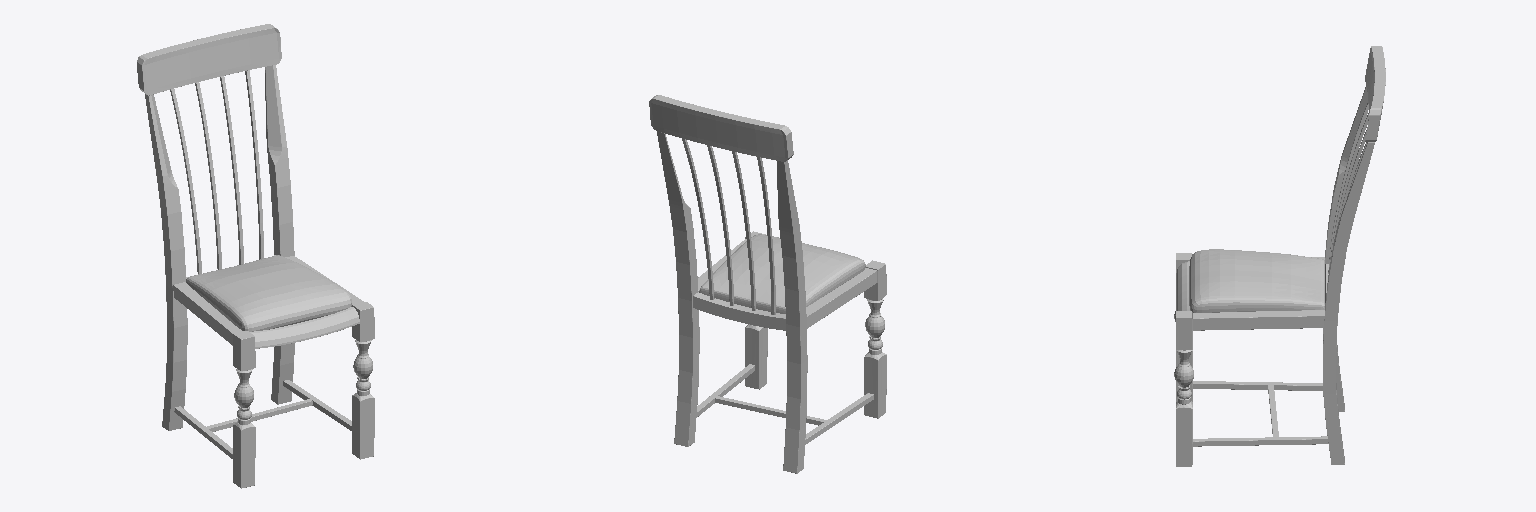
File: chair.obj
3 renders of one model, left to right at view 1: azimuth 30°, elevation 25°; view 2: azimuth 150°, elevation 25°; view 3: azimuth 270°, elevation 25°, orthographic.
Parts seen in each view (by area): view 1: chair_wood, chair_cushion; view 2: chair_wood, chair_cushion; view 3: chair_wood, chair_cushion.
Boxes of the visible parts, box(x1,y1,x2,y2) form: chair_wood: box(137, 24, 374, 488); chair_cushion: box(186, 255, 351, 331); chair_wood: box(649, 95, 886, 473); chair_cushion: box(699, 234, 865, 313); chair_wood: box(1174, 46, 1385, 466); chair_cushion: box(1189, 249, 1324, 312).
Bounding box in the file's own units: 0.4577 × 1.14 × 0.6093.